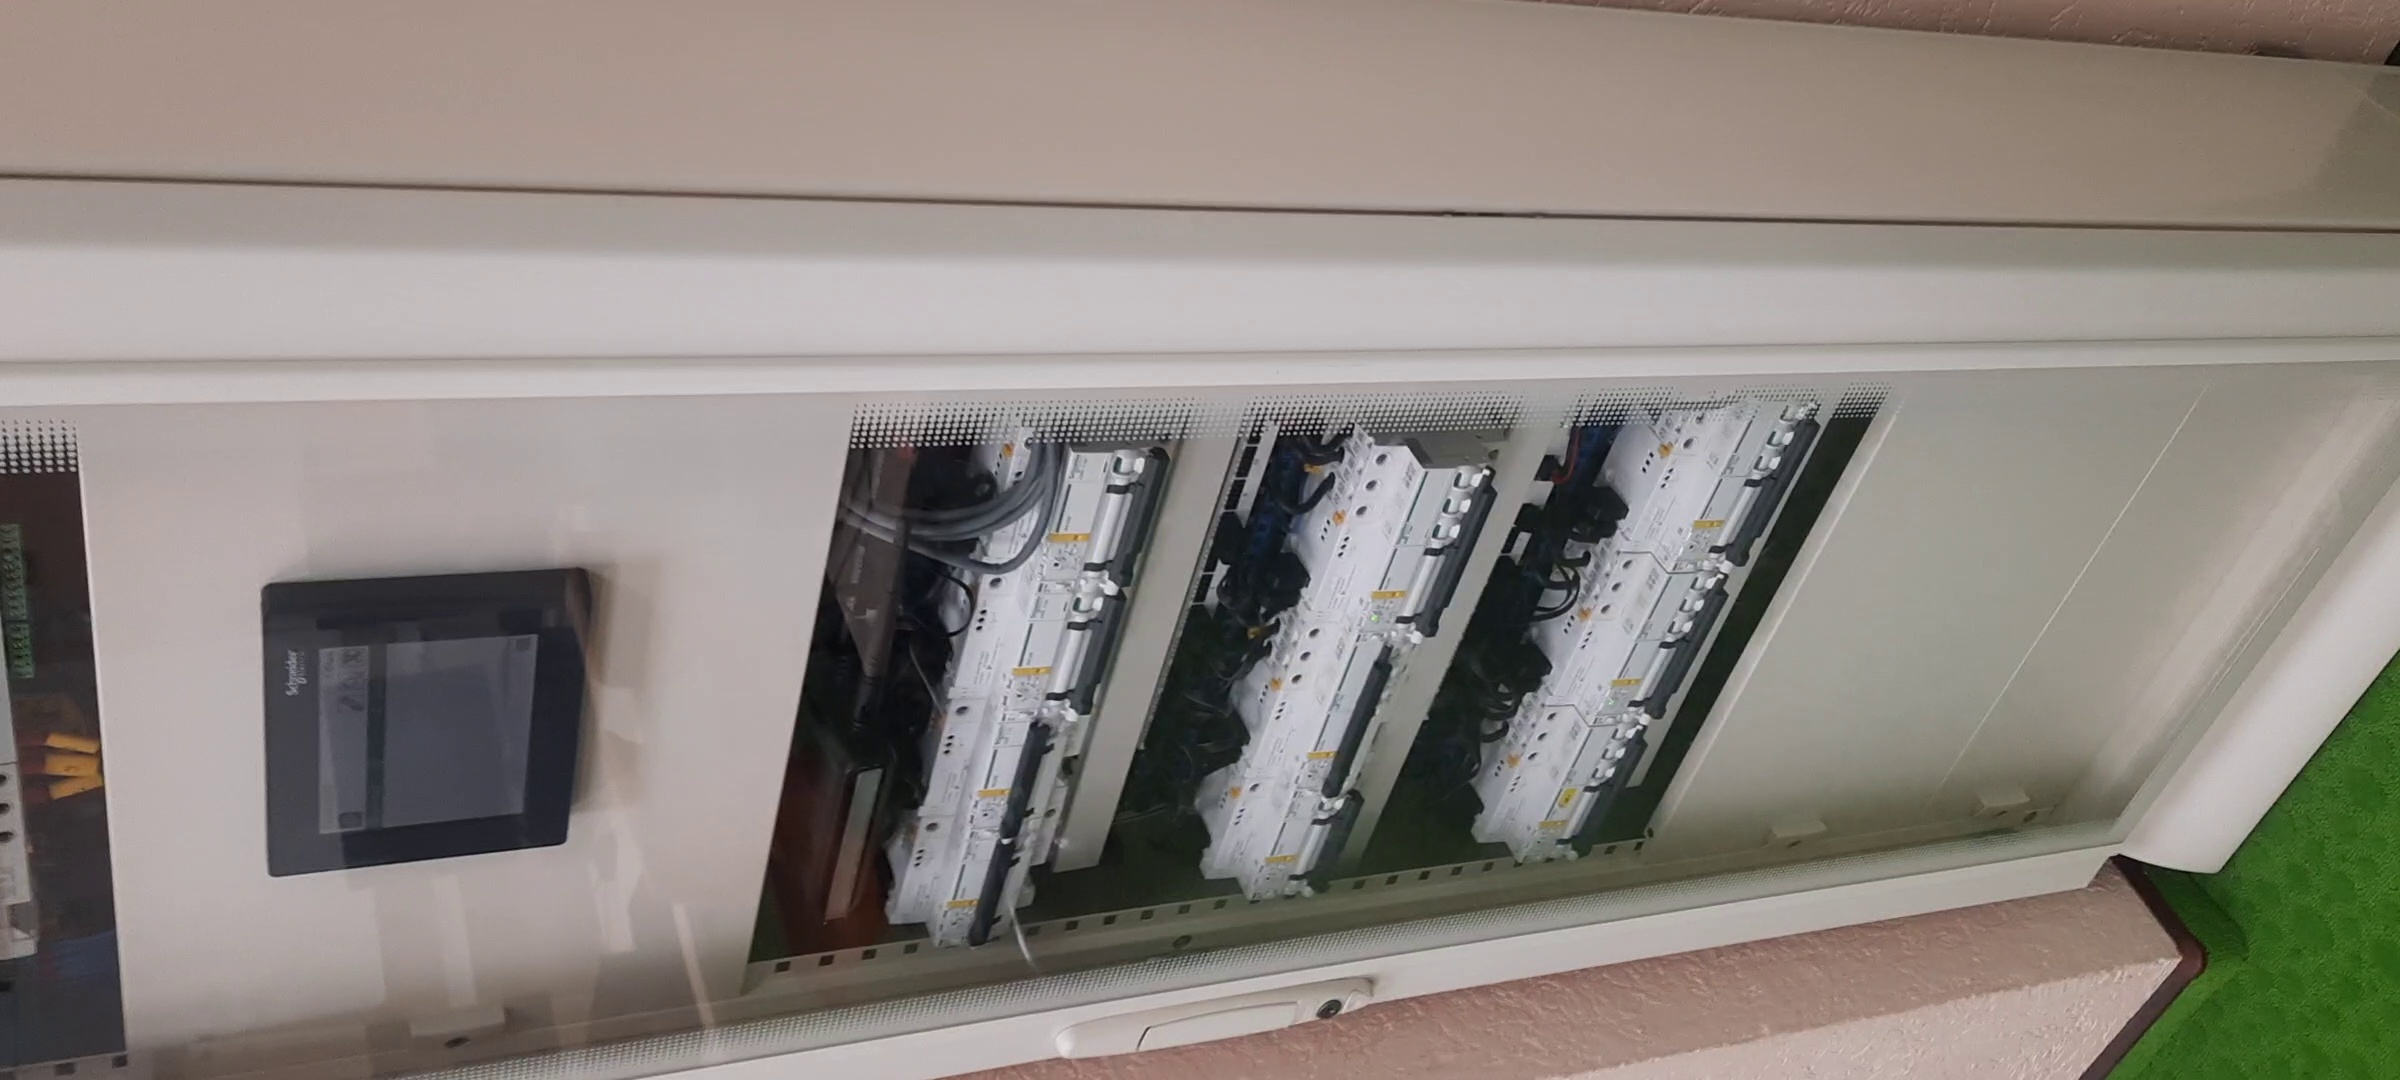smart_stand: (2, 158, 2400, 1080)
